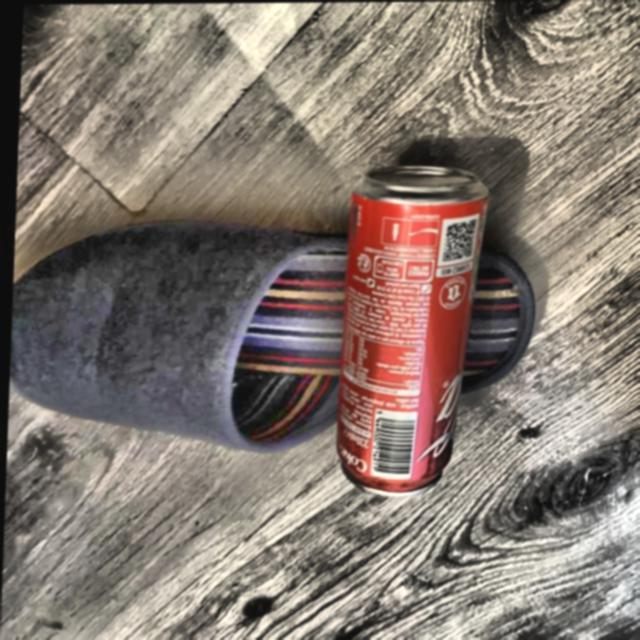can: (332, 153, 488, 494)
